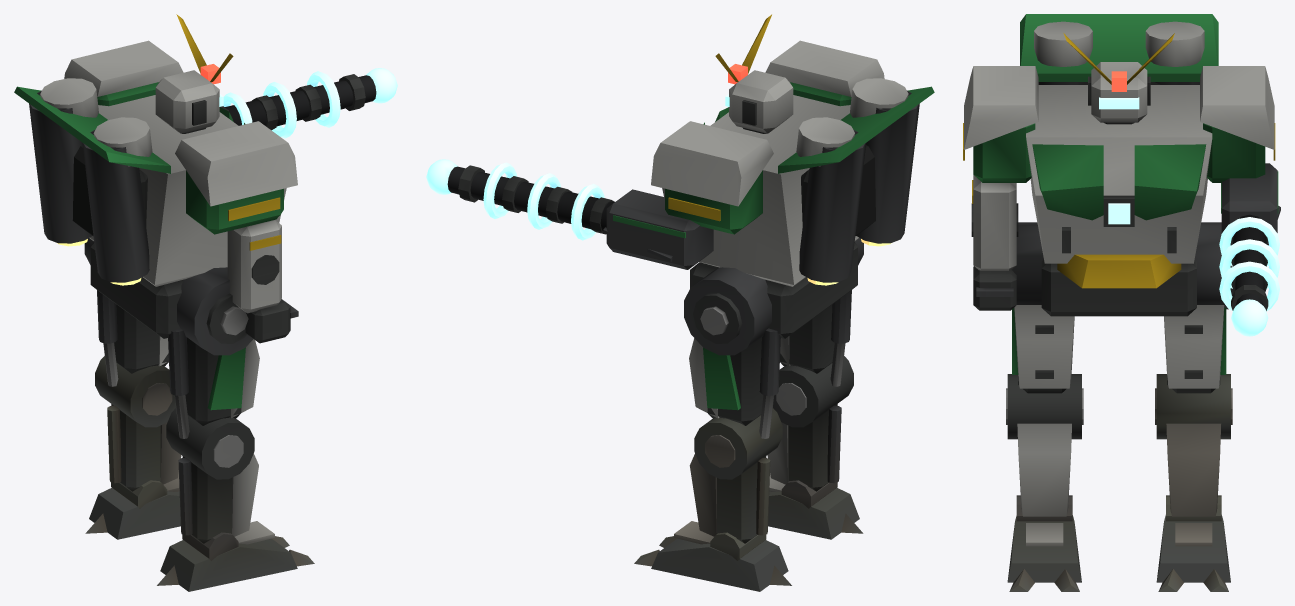
The model's file is u_raijin.glb.
The picture shows the model from 3 angles, left to right: view 1: azimuth 30°, elevation 25°; view 2: azimuth 150°, elevation 25°; view 3: azimuth 270°, elevation 25°; orthographic projection. The views are drawn at different scales.
Visible parts, largest first — view 1: Raijin_Walls, Raijin_shL, Raijin_shR, Raijin_thL, Raijin_Details, Raijin_thR; view 2: Raijin_Walls, Raijin_shR, Raijin_thR, Raijin_shL, Raijin_Details, Raijin_thL; view 3: Raijin_Walls, Raijin_shL, Raijin_shR, Raijin_Details, Raijin_thL, Raijin_thR.
Part boxes in pixels (x1=…): Raijin_Walls: x1=14, y1=40, x2=297, y2=343; Raijin_shL: x1=157, y1=408, x2=314, y2=591; Raijin_shR: x1=85, y1=356, x2=181, y2=539; Raijin_thL: x1=168, y1=267, x2=259, y2=438; Raijin_Details: x1=57, y1=14, x2=397, y2=318; Raijin_thR: x1=84, y1=238, x2=168, y2=386; Raijin_Walls: x1=606, y1=40, x2=934, y2=338; Raijin_shR: x1=634, y1=408, x2=791, y2=591; Raijin_thR: x1=684, y1=267, x2=780, y2=438; Raijin_shL: x1=767, y1=356, x2=863, y2=539; Raijin_Details: x1=426, y1=14, x2=891, y2=285; Raijin_thL: x1=780, y1=238, x2=863, y2=386; Raijin_Walls: x1=964, y1=14, x2=1277, y2=316; Raijin_shL: x1=1006, y1=374, x2=1083, y2=591; Raijin_shR: x1=1155, y1=374, x2=1232, y2=591; Raijin_Details: x1=963, y1=33, x2=1280, y2=336; Raijin_thL: x1=1012, y1=222, x2=1074, y2=393; Raijin_thR: x1=1164, y1=222, x2=1233, y2=393.
Size of the model in its own units: 1.55 by 1.88 by 1.02.
